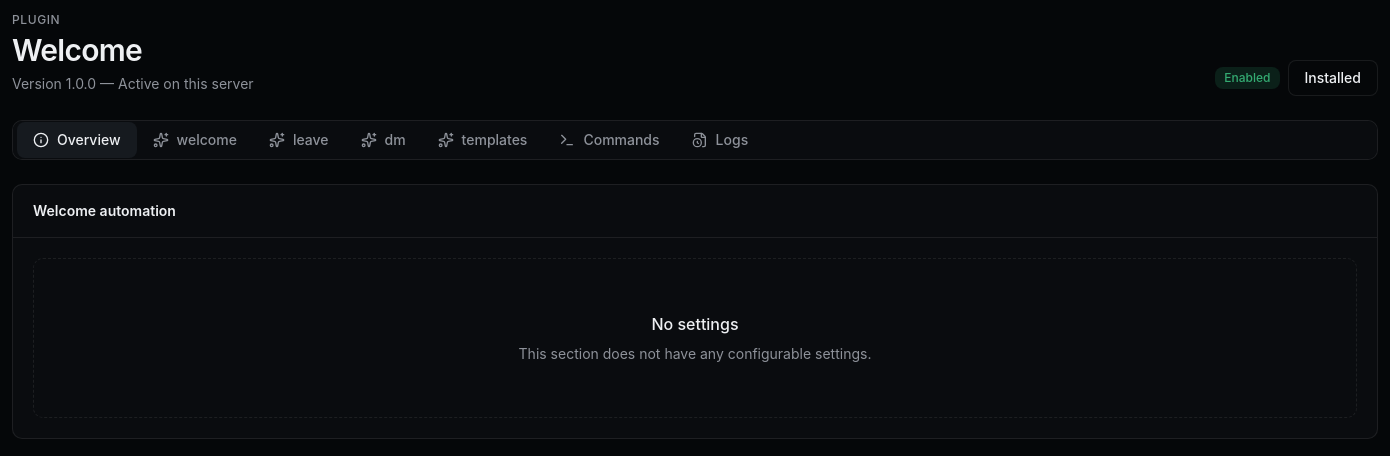
Test: PluginDetailPage › switches tabs and renders schema content
Step 1. Click the tab "leave" → x=299, y=140, box [253,122,344,158]
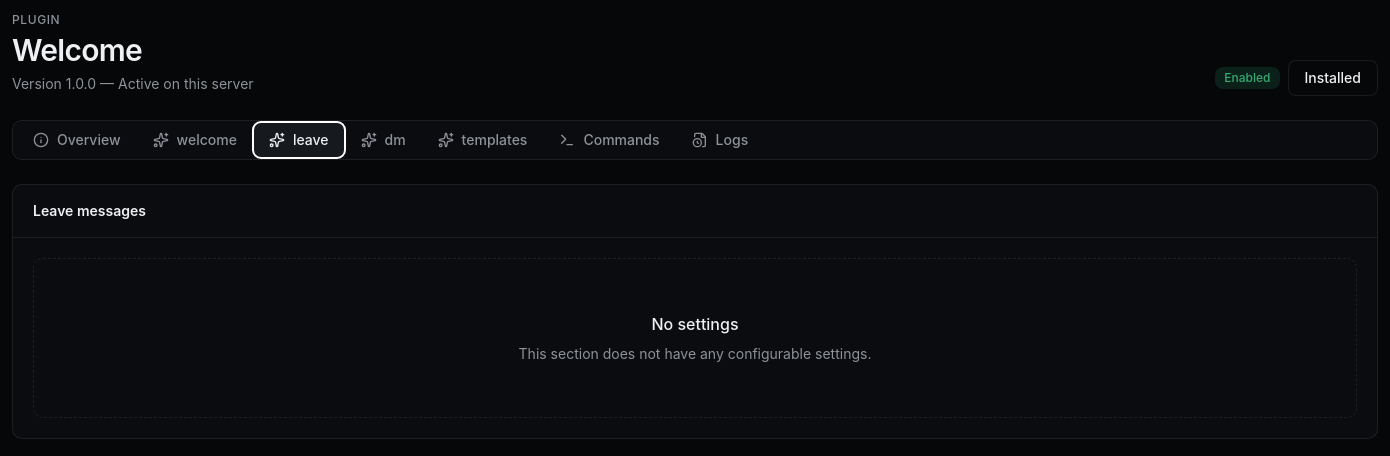
Now the text "Leave messages" is shown, box [33,201,146,221]
